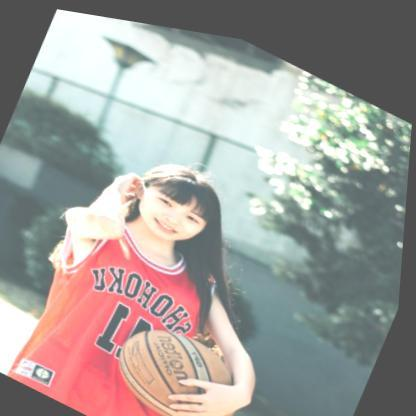basketball: (109, 303, 246, 416)
